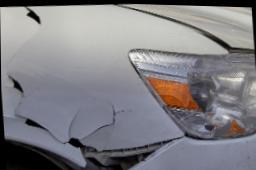Fender: (0, 3, 228, 170)
